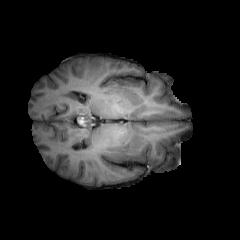glioma: (113, 85, 153, 161)
